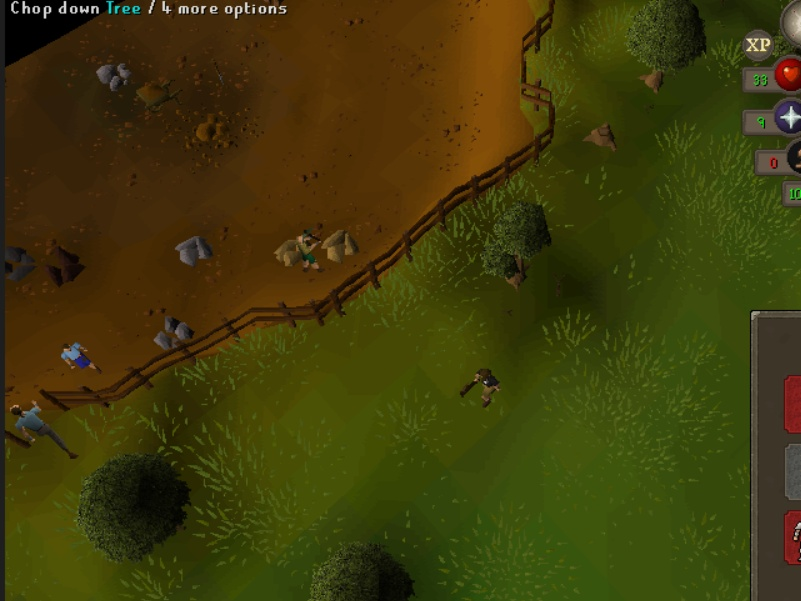clay: (274, 230, 310, 271), (322, 225, 358, 266)
iron: (42, 240, 87, 286)
tin: (154, 313, 197, 352), (175, 228, 211, 269)
